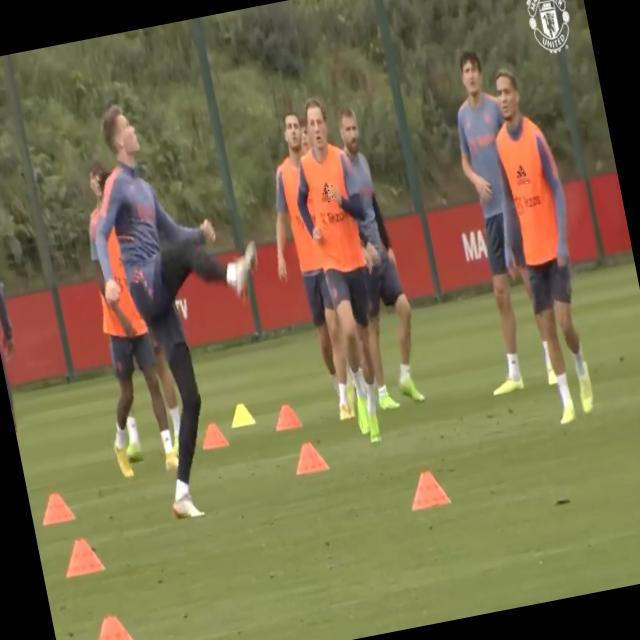Adidas: (513, 160, 531, 186), (318, 181, 336, 205)
